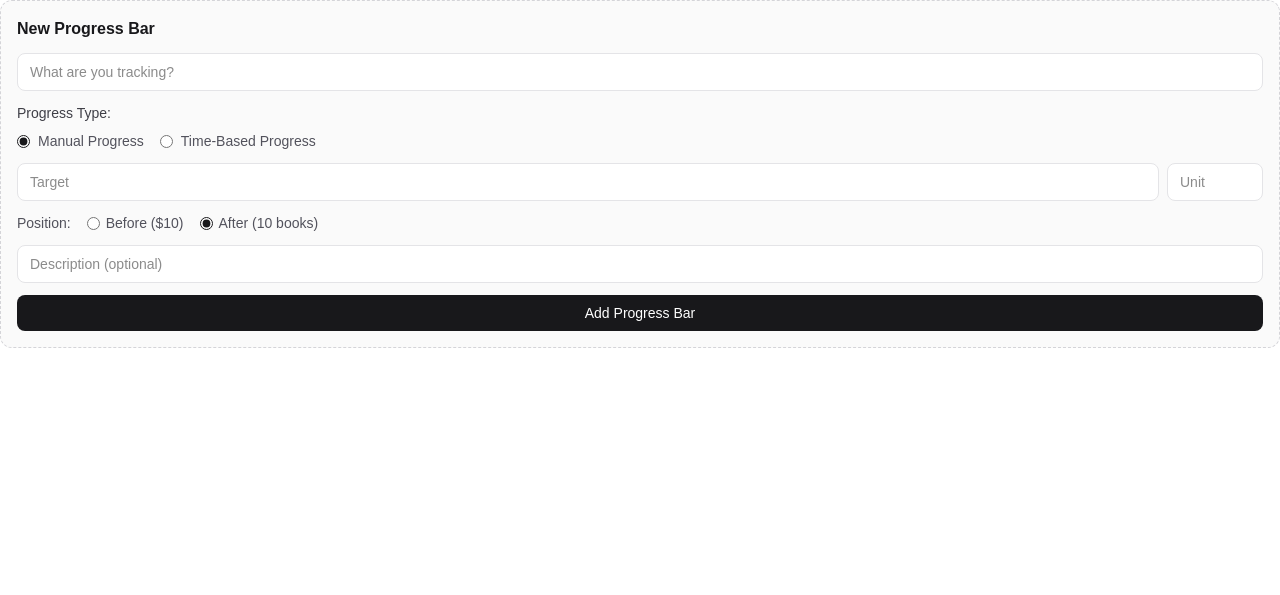
Test: CreateBarForm › shows only target date for count-down type
Note: Select time-based progress
Click the radio button labelled "Time-Based Progress" at (166, 141), box [160,134,173,148]
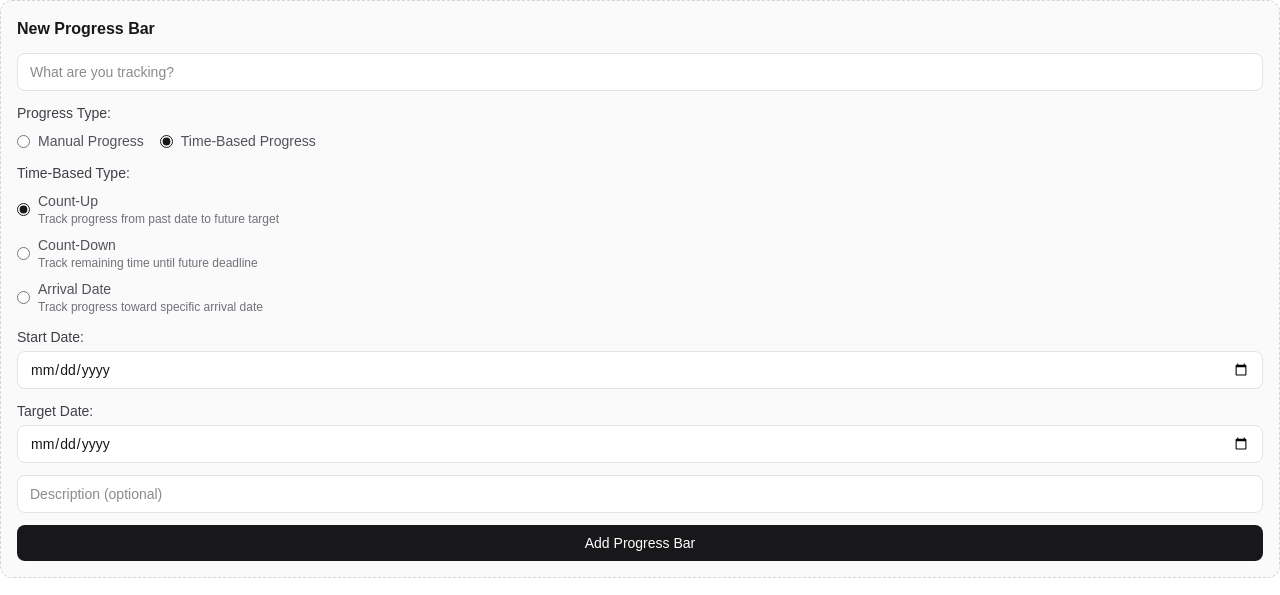
Note: Select count-down type
Click the radio button labelled "Count-Down Track remaining time until future deadline" at (24, 253), box [17,246,30,260]
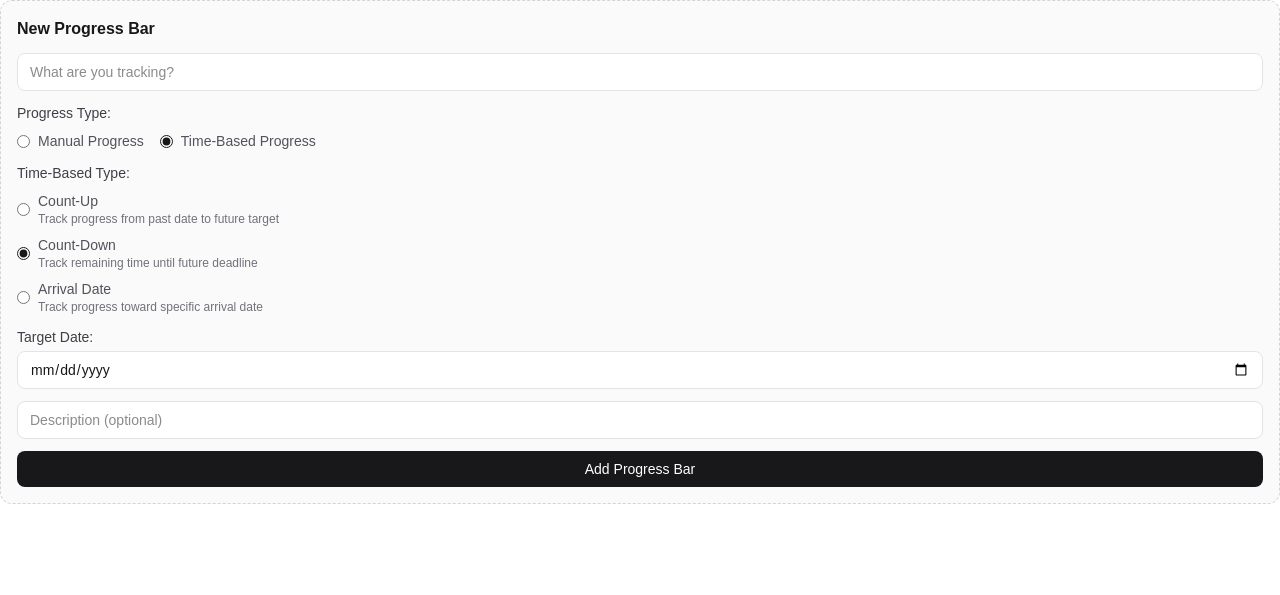
Now the date field labelled "Target Date:" is shown, box [17,351,1263,389]
Now the label labelled "Start Date:" is gone
